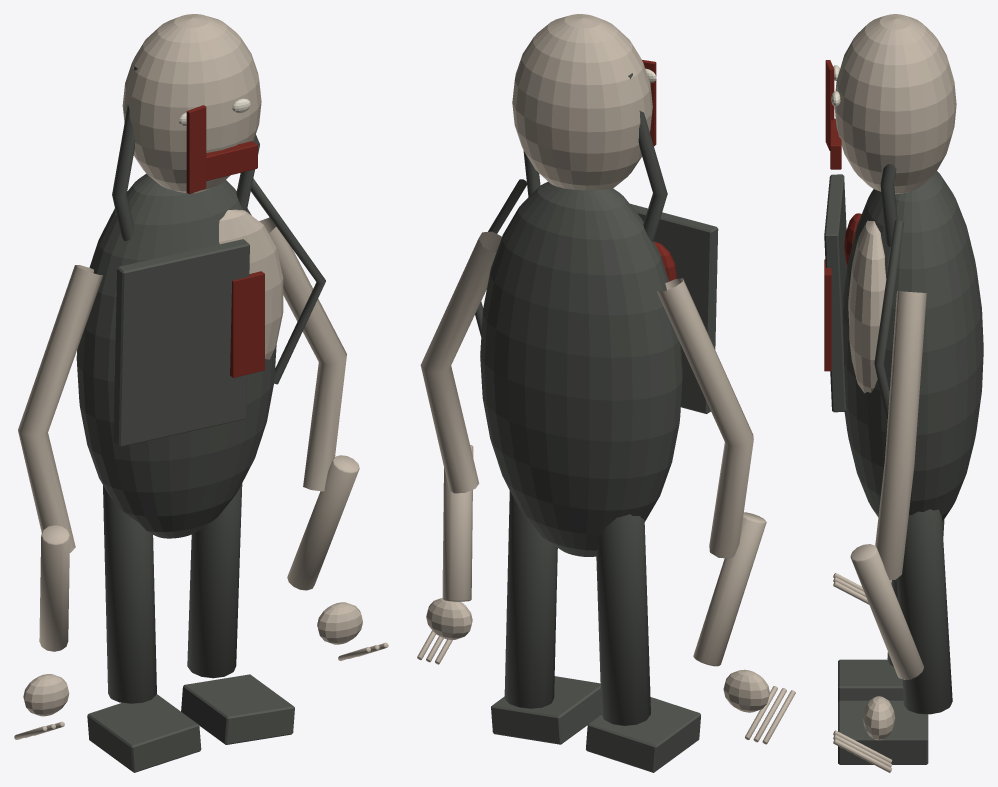
The model's file is dz_enemy_walker_female_B.glb.
3 renders of one model, left to right at view 1: azimuth 30°, elevation 25°; view 2: azimuth 150°, elevation 25°; view 3: azimuth 270°, elevation 25°, orthographic.
Visible parts, largest first — view 1: dz_torso_core, dz_shredded_jacket_panel, dz_head_forward, dz_limb_leg_L, dz_limb_arm_L, dz_limb_leg_R, dz_limb_arm_R, dz_foot_drag_L, dz_foot_drag_R, dz_limb_forearm_R, dz_chest_infected_growth, dz_limb_forearm_L (+7 smaller); view 2: dz_torso_core, dz_head_forward, dz_limb_leg_L, dz_limb_leg_R, dz_limb_arm_L, dz_limb_arm_R, dz_shredded_jacket_panel, dz_foot_drag_L, dz_foot_drag_R, dz_limb_forearm_L, dz_limb_forearm_R, dz_hair_clump_left (+3 smaller); view 3: dz_torso_core, dz_head_forward, dz_limb_arm_R, dz_limb_leg_R, dz_chest_infected_growth, dz_limb_forearm_R, dz_foot_drag_R, dz_shredded_jacket_panel, dz_foot_drag_L, dz_variant_B_loose_cable_or_hair, dz_hand_claw_R, dz_hair_clump_right (+5 smaller).
Boxes of the visible parts, box(x1,y1,x2,y2) form: dz_torso_core: box(76, 173, 276, 538); dz_shredded_jacket_panel: box(113, 239, 249, 446); dz_head_forward: box(122, 14, 261, 193); dz_limb_leg_L: box(103, 485, 156, 703); dz_limb_arm_L: box(18, 265, 102, 552); dz_limb_leg_R: box(187, 483, 242, 678); dz_limb_arm_R: box(259, 217, 346, 491); dz_foot_drag_L: box(87, 694, 201, 772); dz_foot_drag_R: box(181, 674, 294, 744); dz_limb_forearm_R: box(287, 455, 359, 590); dz_chest_infected_growth: box(219, 209, 283, 359); dz_limb_forearm_L: box(39, 525, 69, 651); dz_torso_core: box(480, 182, 682, 556); dz_head_forward: box(512, 14, 652, 190); dz_limb_leg_L: box(596, 514, 650, 725); dz_limb_leg_R: box(504, 490, 557, 708); dz_limb_arm_L: box(657, 278, 753, 558); dz_limb_arm_R: box(420, 231, 501, 493); dz_shredded_jacket_panel: box(630, 203, 718, 413); dz_foot_drag_L: box(586, 697, 700, 772); dz_foot_drag_R: box(491, 676, 601, 744); dz_limb_forearm_L: box(693, 512, 766, 666); dz_limb_forearm_R: box(442, 445, 473, 601); dz_hair_clump_left: box(628, 73, 667, 241); dz_torso_core: box(843, 171, 983, 521); dz_head_forward: box(834, 14, 956, 194); dz_limb_arm_R: box(875, 291, 926, 579); dz_limb_leg_R: box(896, 509, 952, 714); dz_chest_infected_growth: box(848, 220, 886, 393); dz_limb_forearm_R: box(850, 544, 923, 679); dz_foot_drag_R: box(838, 700, 928, 764); dz_shredded_jacket_panel: box(824, 174, 847, 412); dz_foot_drag_L: box(838, 659, 903, 701); dz_variant_B_loose_cable_or_hair: box(874, 220, 904, 423); dz_hand_claw_R: box(863, 696, 895, 740); dz_hair_clump_right: box(880, 164, 897, 246).
Size of what is drawn, in the model's own units: 0.9717 by 1.91 by 0.3895.
